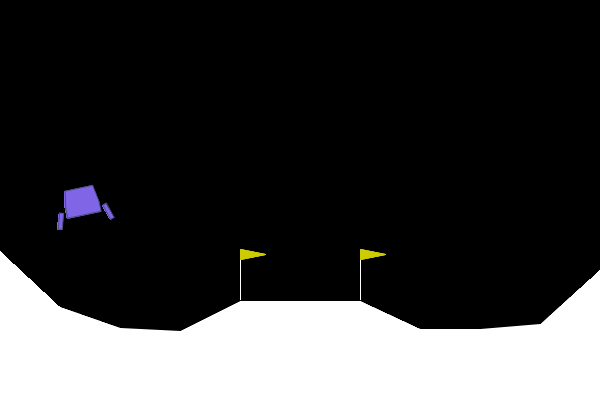lander: (49, 180, 116, 232)
